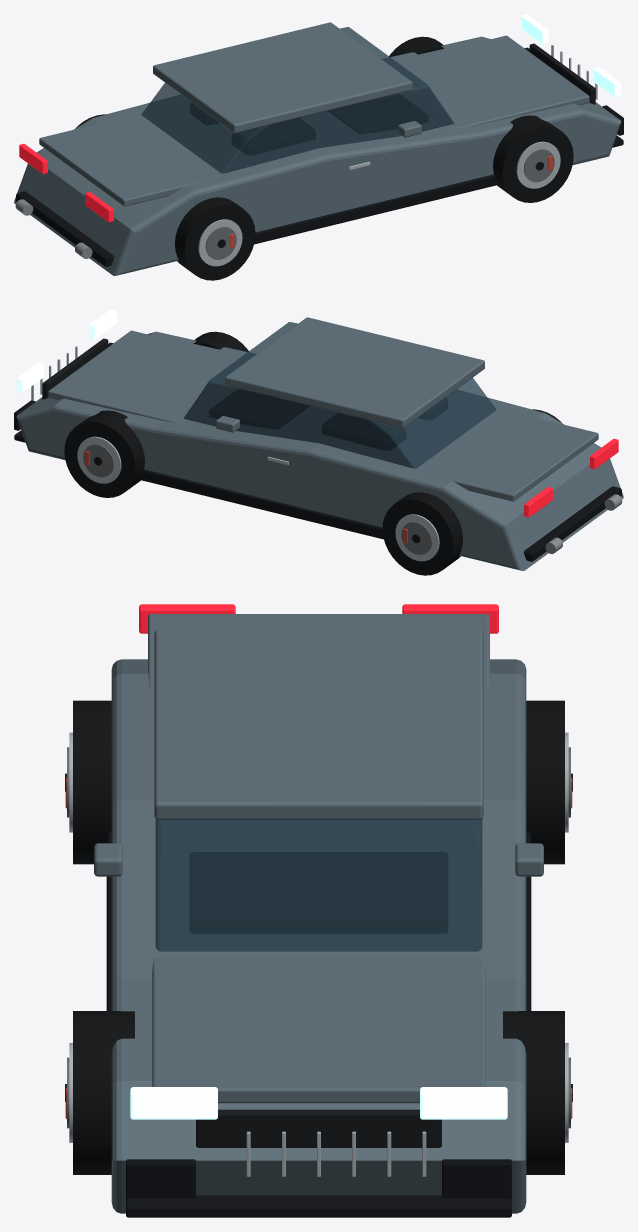
Rendered from chrome-lowrider.glb.
3 renders of one model, top to bottom at view 1: azimuth 30°, elevation 25°; view 2: azimuth 150°, elevation 25°; view 3: azimuth 270°, elevation 25°, orthographic. The views are drawn at different scales.
Parts seen in each view (by area): view 1: sculpted_body, roof, glasshouse, hood_center, rear_deck, front_right_wheel_tire, rear_right_wheel_tire, side_skirt_1, dashboard, seat_1, rear_diffuser, front_grille (+9 smaller); view 2: sculpted_body, roof, glasshouse, hood_center, rear_deck, front_left_wheel_tire, rear_left_wheel_tire, side_skirt_-1, dashboard, seat_-1, rear_diffuser, front_grille (+9 smaller); view 3: sculpted_body, roof, hood_center, glasshouse, dashboard, front_grille, front_splitter, front_left_wheel_tire, front_right_wheel_tire, rear_deck, rear_left_wheel_tire, rear_right_wheel_tire (+10 smaller).
Part boxes in pixels (box(x1,y1,x2,y2)): sculpted_body: box(14, 36, 621, 275); roof: box(153, 22, 412, 133); glasshouse: box(141, 27, 454, 173); hood_center: box(389, 35, 589, 128); rear_deck: box(39, 118, 206, 206); front_right_wheel_tire: box(493, 115, 573, 202); rear_right_wheel_tire: box(175, 197, 255, 280); side_skirt_1: box(254, 174, 498, 244); dashboard: box(328, 94, 427, 133); seat_1: box(232, 118, 315, 154); rear_diffuser: box(16, 191, 114, 266); front_grille: box(529, 43, 595, 104); sculpted_body: box(16, 331, 623, 570); roof: box(225, 317, 484, 428); glasshouse: box(183, 322, 496, 468); hood_center: box(48, 330, 248, 423); rear_deck: box(431, 413, 598, 501); front_left_wheel_tire: box(64, 410, 144, 497); rear_left_wheel_tire: box(382, 492, 462, 575); side_skirt_-1: box(139, 469, 383, 539); dashboard: box(210, 389, 309, 428); seat_-1: box(322, 413, 405, 449); rear_diffuser: box(523, 486, 621, 561); front_grille: box(42, 338, 108, 399); sculpted_body: box(111, 659, 526, 1213); roof: box(154, 630, 483, 819); hood_center: box(152, 957, 485, 1103); glasshouse: box(155, 818, 482, 951); dashboard: box(190, 852, 447, 932); front_grille: box(196, 1109, 441, 1147); front_splitter: box(126, 1195, 511, 1217); front_left_wheel_tire: box(503, 1011, 564, 1174); front_right_wheel_tire: box(73, 1011, 134, 1174); rear_deck: box(148, 614, 489, 693); rear_left_wheel_tire: box(526, 700, 564, 864); rear_right_wheel_tire: box(73, 700, 111, 864).
Size of the model in its own units: 5.53 by 1.3 by 2.29.
